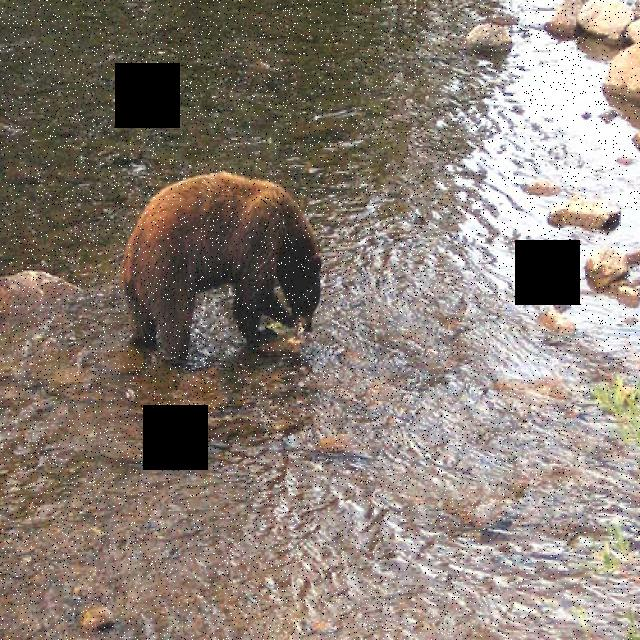Bear: (122, 172, 329, 352)
